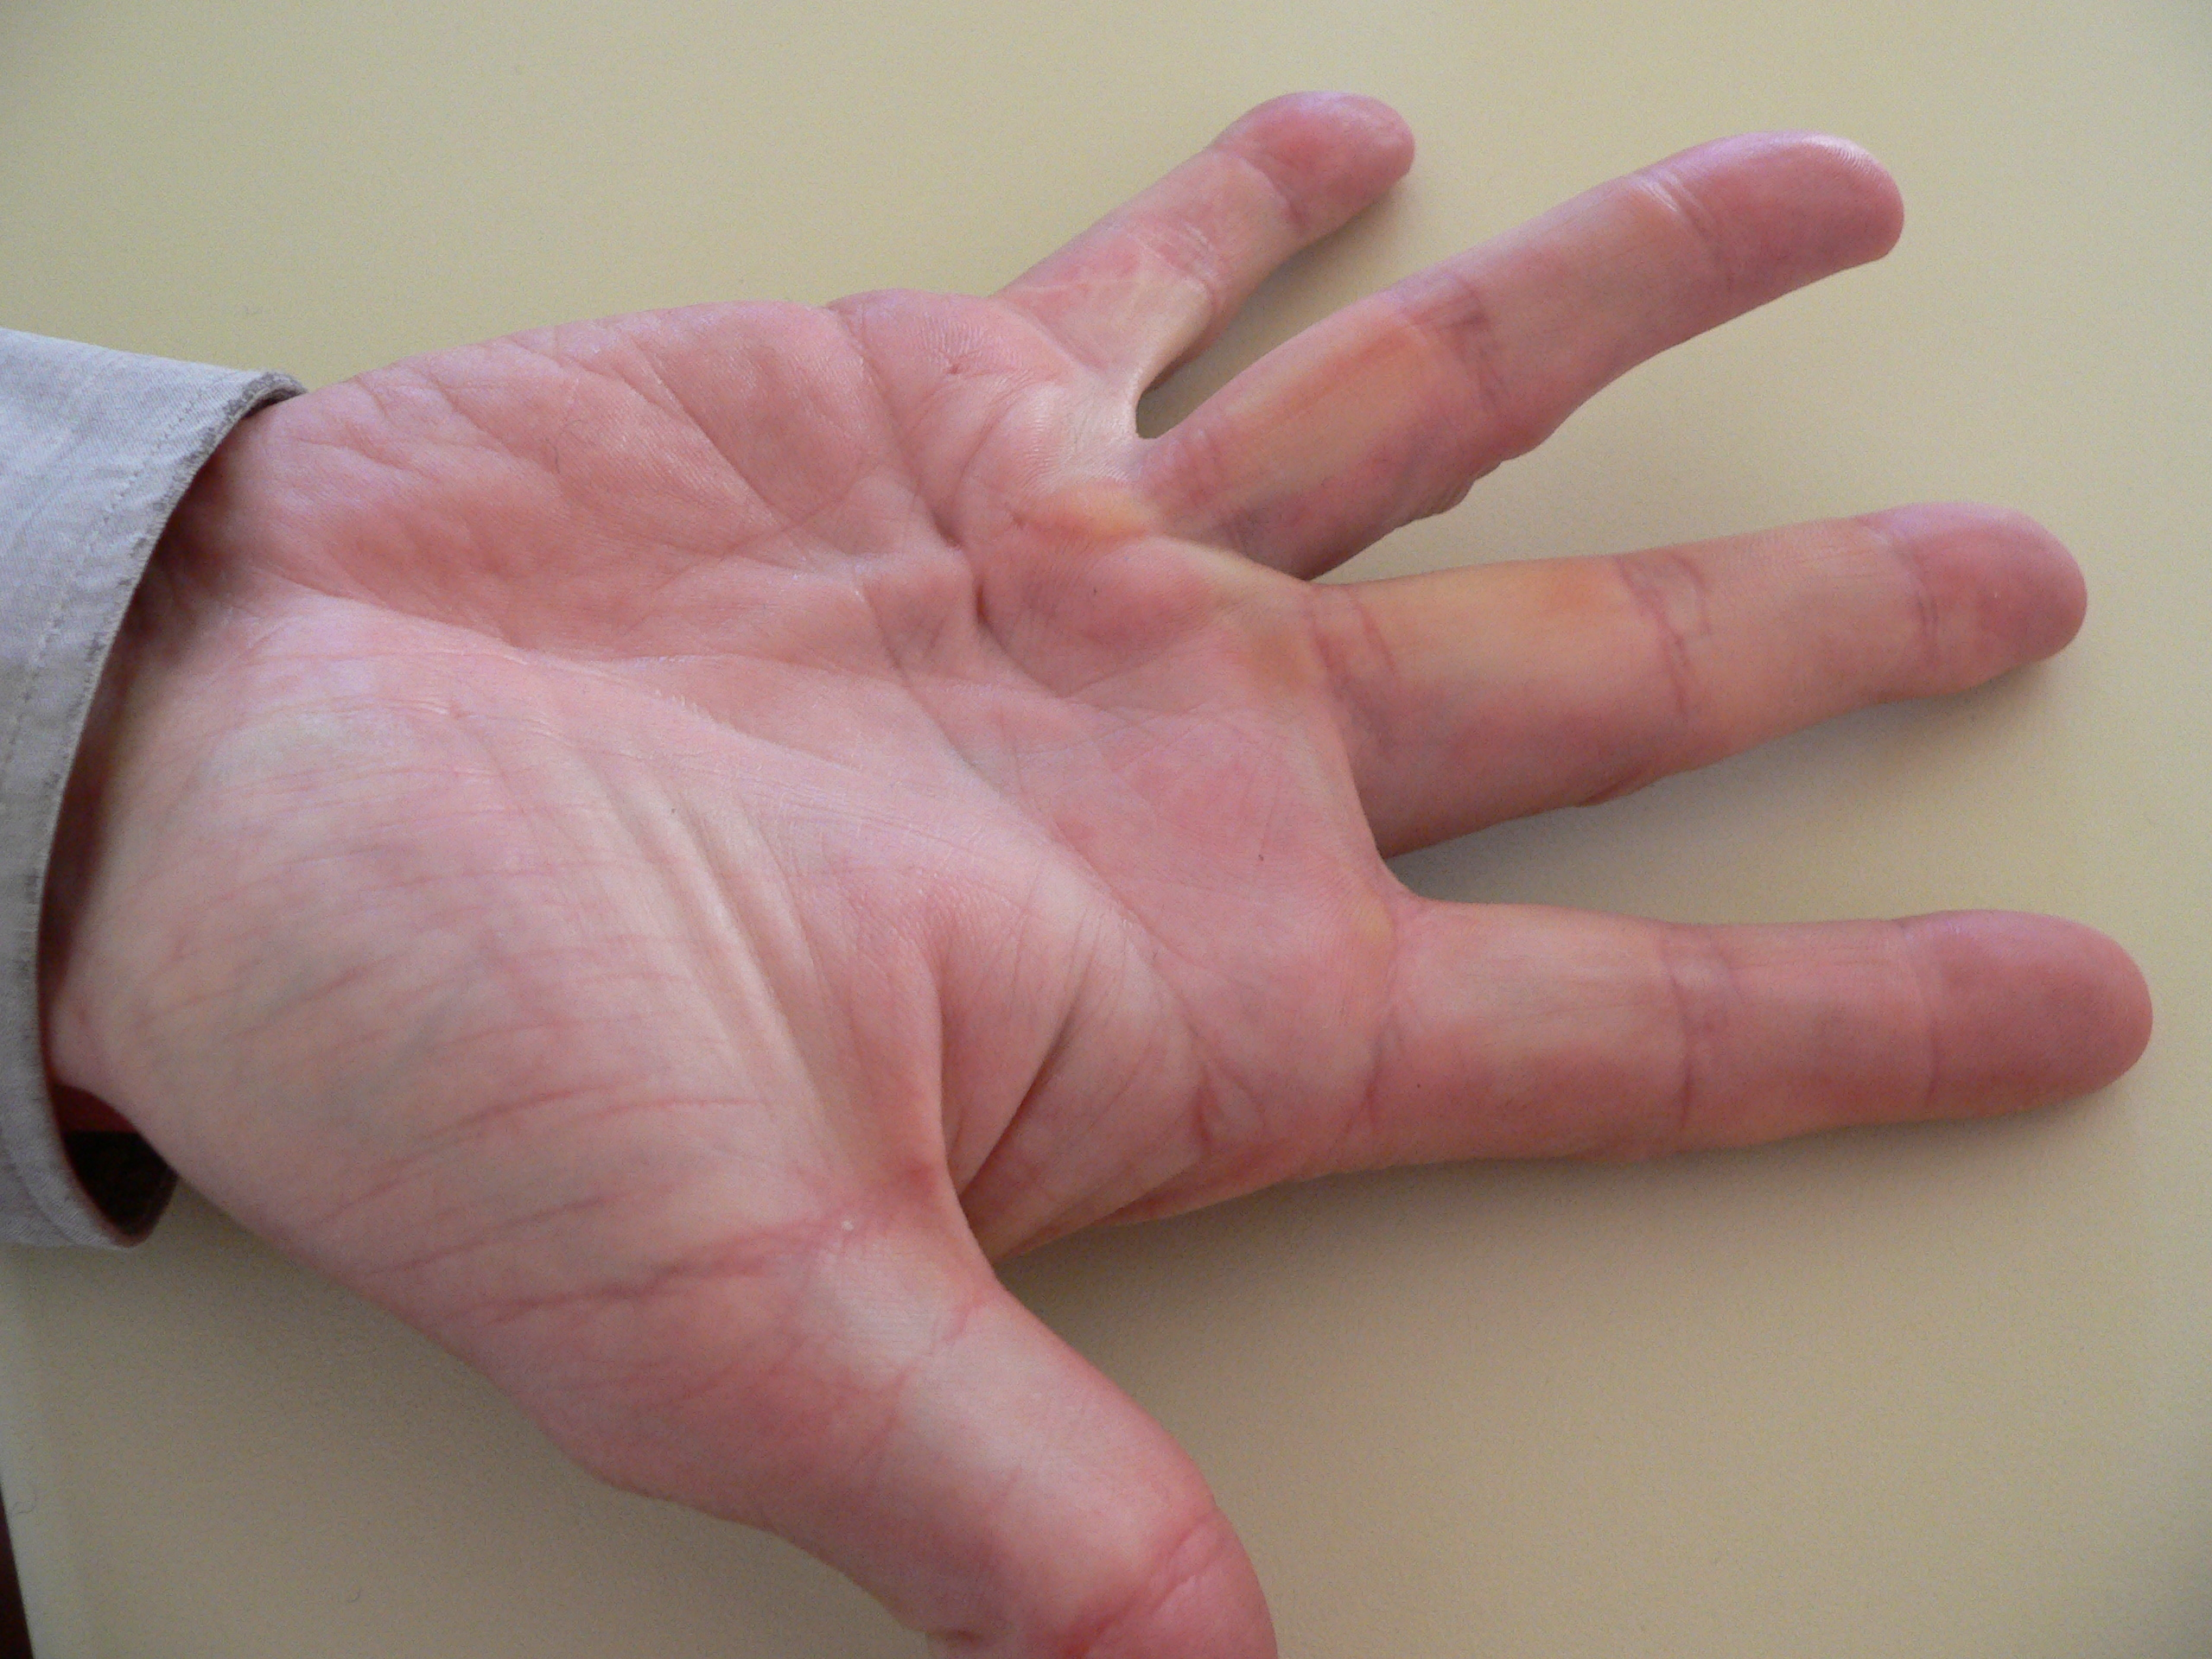non-diseased: (122, 64, 2134, 1495)
